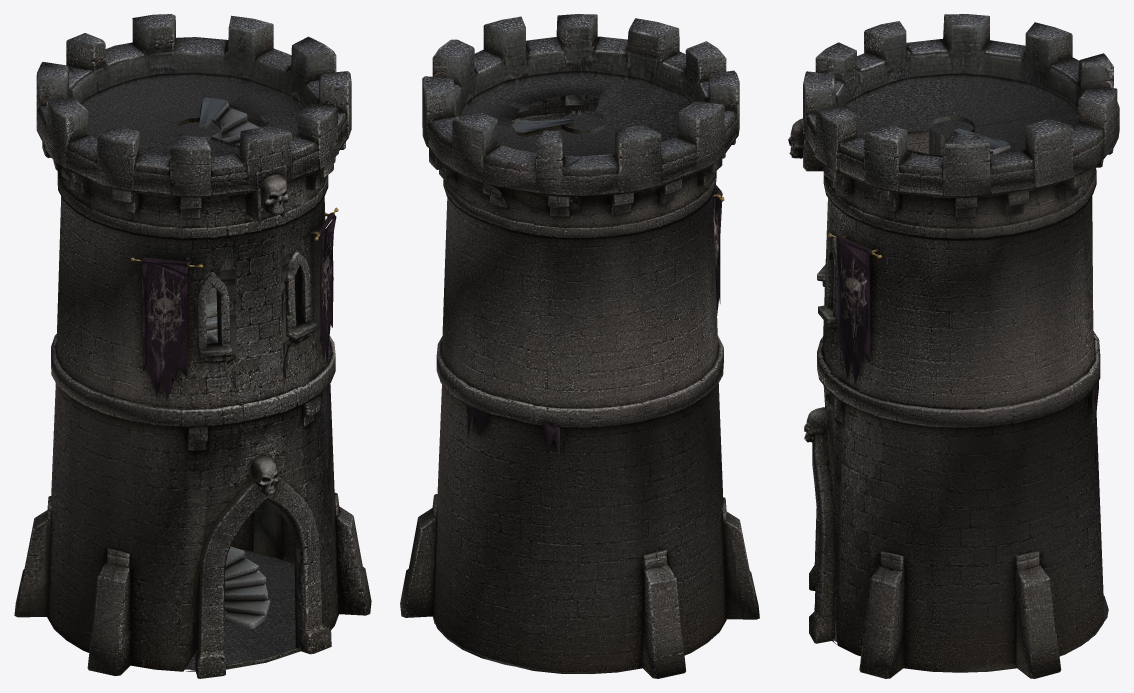
The model's file is skeleton tower.glb.
The picture shows the model from 3 angles, left to right: view 1: azimuth 30°, elevation 25°; view 2: azimuth 150°, elevation 25°; view 3: azimuth 270°, elevation 25°; orthographic projection.
Visible parts, largest first — view 1: Tour, PLafond tour, Escalier bas, Escalier Haut.001; view 2: Tour, PLafond tour, Escalier Haut.001; view 3: Tour, PLafond tour, Escalier Haut.001.
Part boxes in pixels (<box>): Tour: <box>14,14,371,678</box>; PLafond tour: <box>81,72,307,157</box>; Escalier bas: <box>206,301,270,628</box>; Escalier Haut.001: <box>175,97,258,341</box>; Tour: <box>400,14,759,678</box>; PLafond tour: <box>460,70,693,156</box>; Escalier Haut.001: <box>510,110,605,136</box>; Tour: <box>788,14,1119,678</box>; PLafond tour: <box>845,73,1078,157</box>; Escalier Haut.001: <box>928,116,1010,155</box>.
Size of the model in its own units: 17.93 by 32.6 by 18.18.
6 materials, 5 textured.
